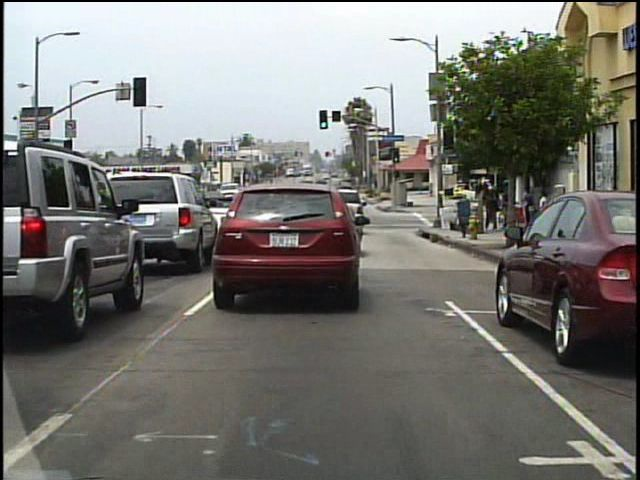person: (483, 184, 501, 236), (522, 185, 538, 232), (501, 188, 513, 226)
